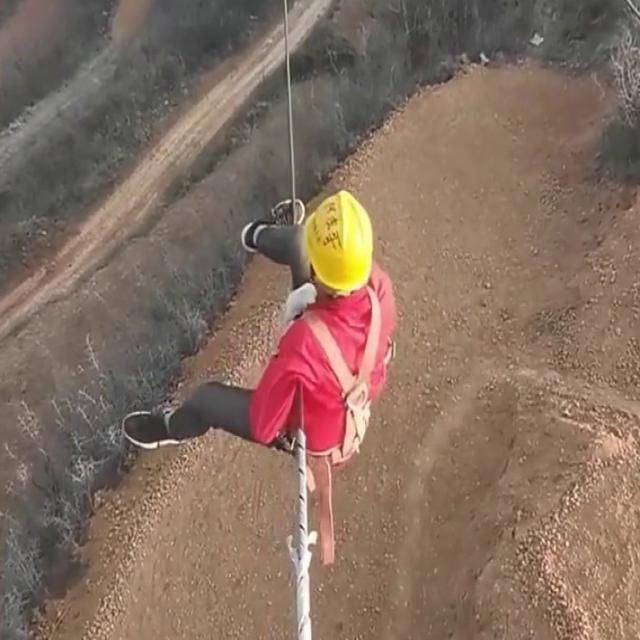Arnes_seguridad: (279, 288, 401, 468)
